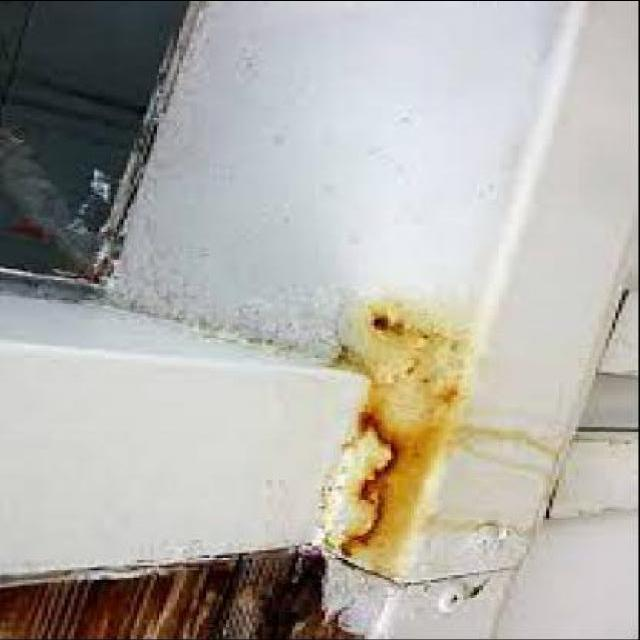Crevice Corrosion: (341, 412, 395, 557), (374, 316, 388, 329)
